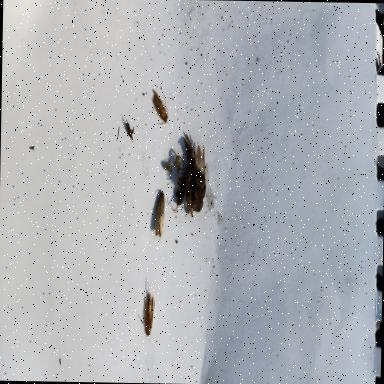pbw: (147, 82, 171, 130), (148, 186, 170, 238), (137, 286, 158, 340)
